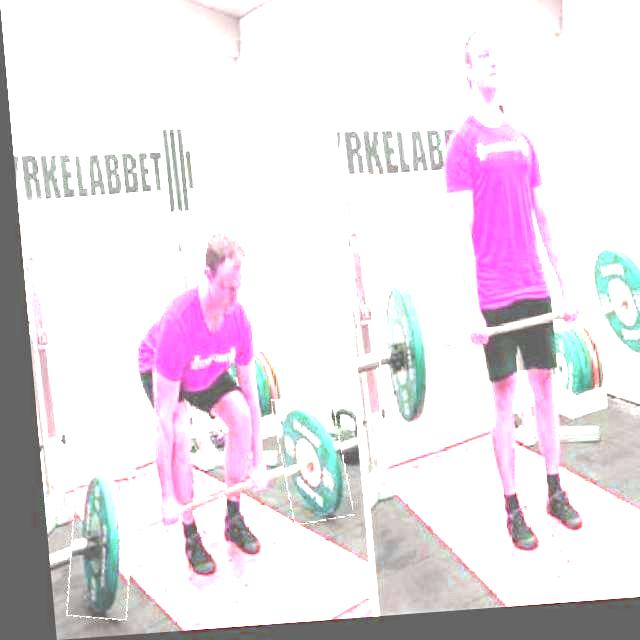barbell: (50, 465, 131, 624), (365, 282, 432, 437), (267, 397, 342, 529), (577, 241, 640, 377)
